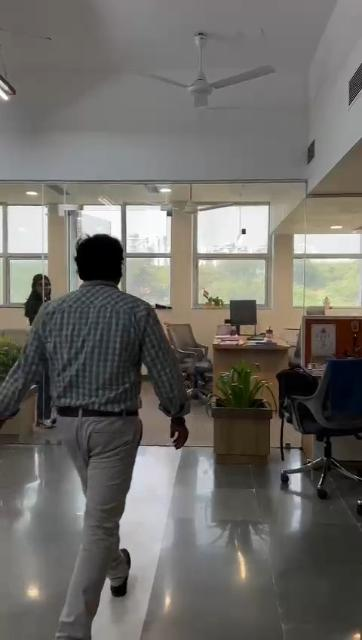floor: (135, 498, 355, 640), (2, 446, 58, 640)
moving-obj: (40, 266, 200, 640)
object: (267, 362, 362, 489), (209, 372, 277, 462), (222, 290, 264, 354), (174, 312, 209, 388)
wall: (266, 172, 296, 330), (166, 222, 194, 322), (49, 213, 71, 284)
